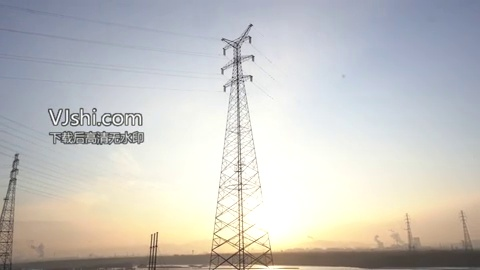tower_body: (207, 19, 273, 269)
tower_foot: (203, 223, 277, 268)
tower_head: (214, 22, 258, 57)
